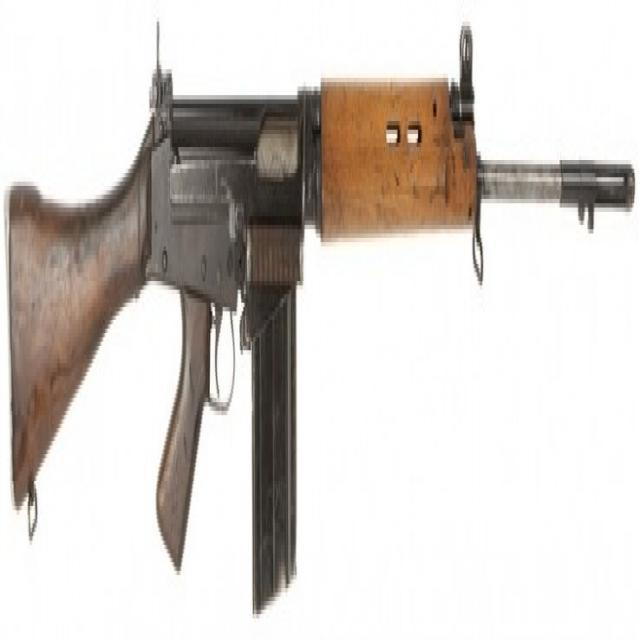gun-knife-thesis - v11 Yolov5 augmented: (5, 39, 632, 597)
